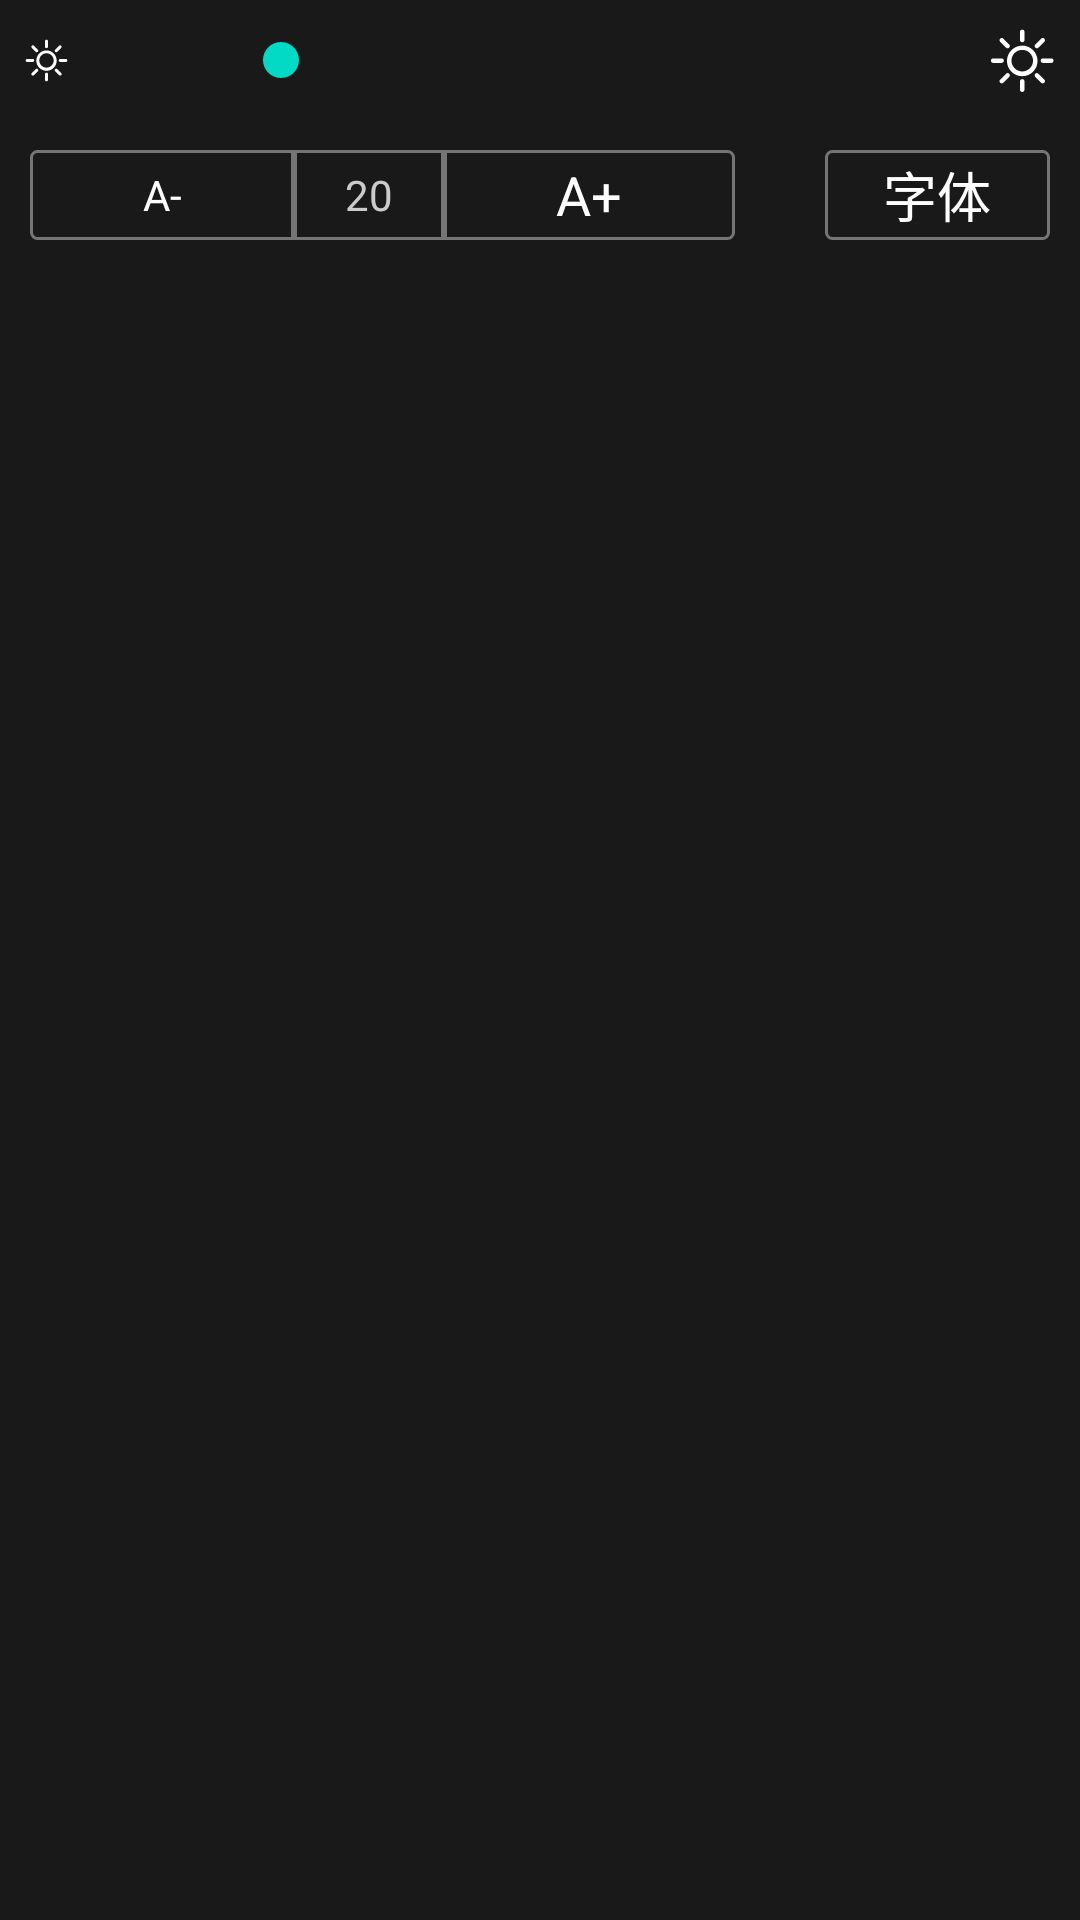

Point at icon controls on the screen. Image size 1080px×1920px, points as (x=x, y=y).
sun: (x=1022, y=60), (x=46, y=60)
